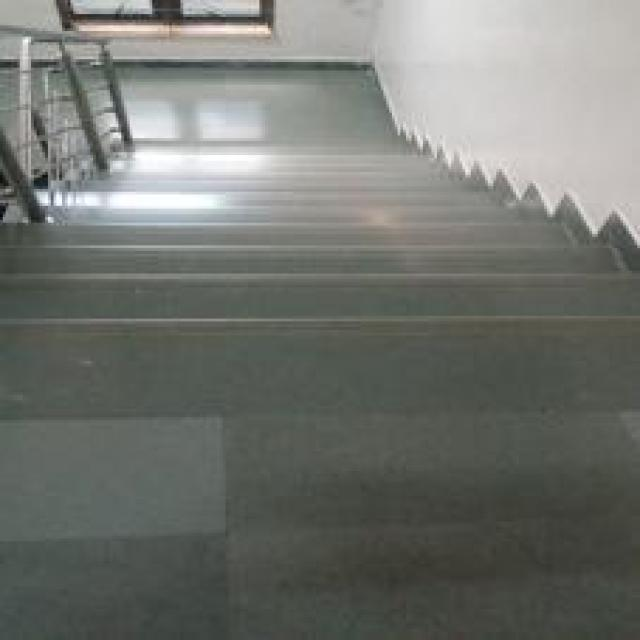downstair: (57, 165, 596, 368)
